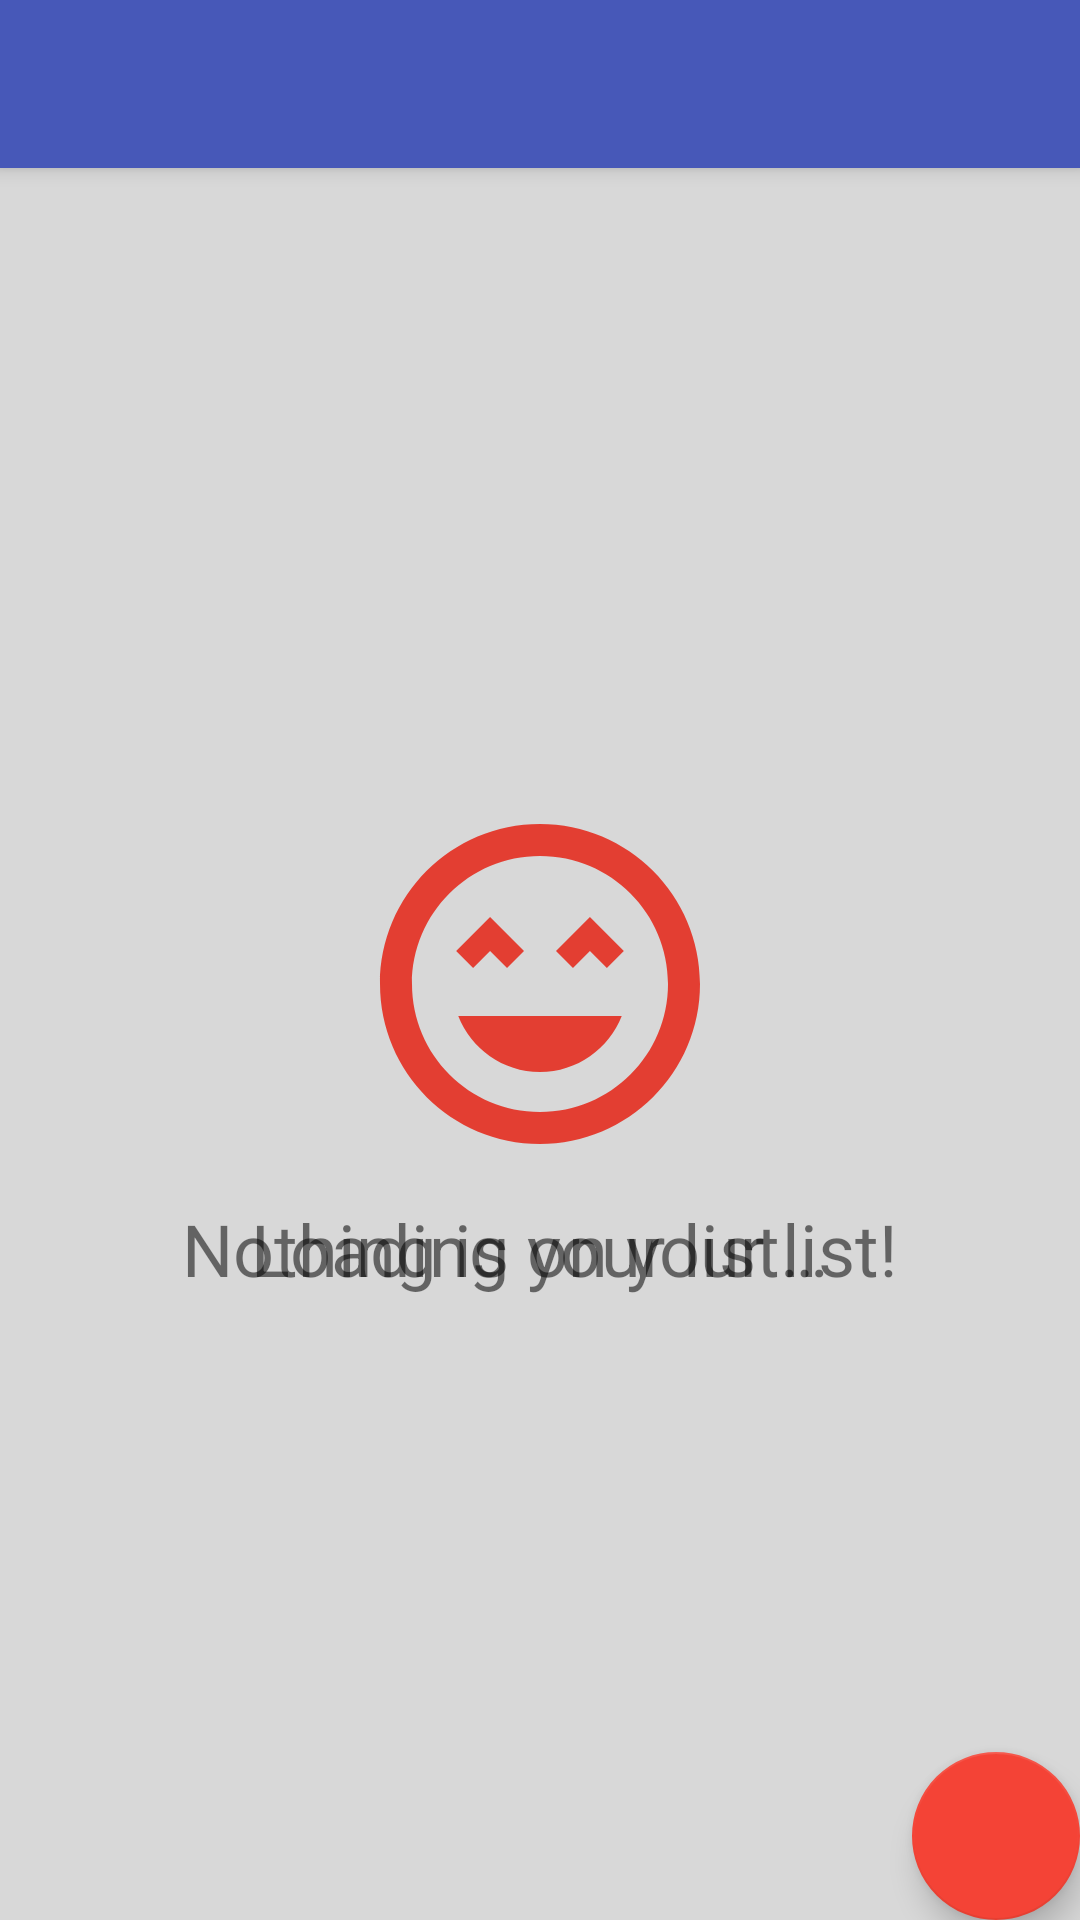

Icon click points for this 1080×1920 phone screenshot, format point (x, y):
sentiment very satisfied: point (540, 984)
